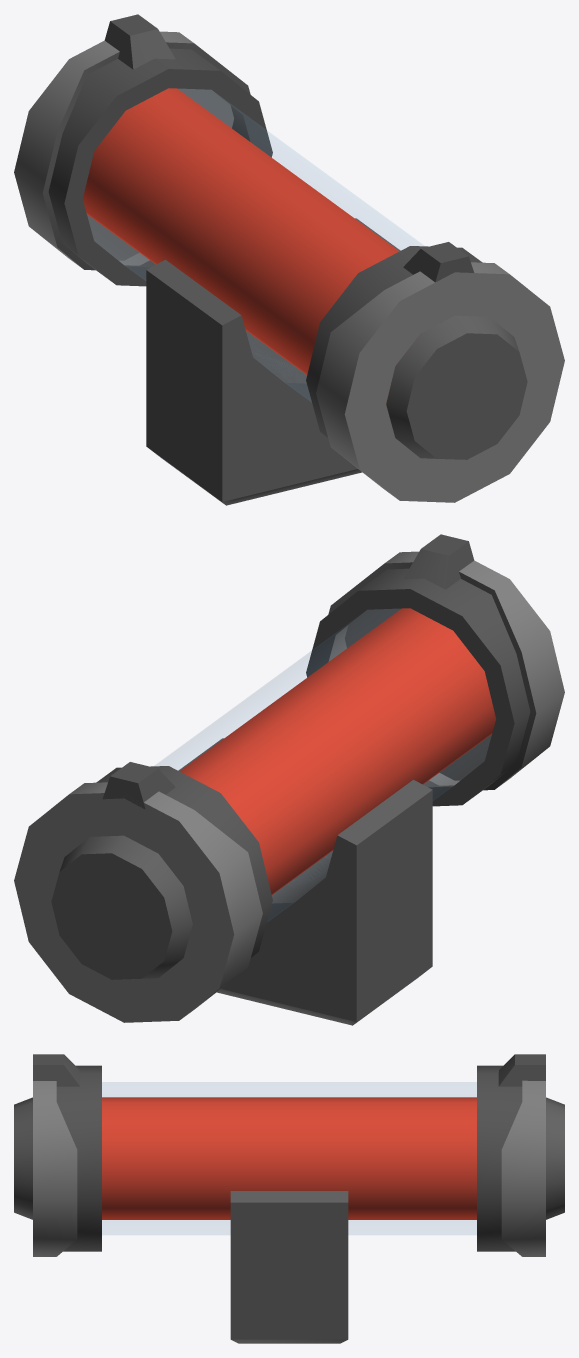
The model's file is Liquid_Red_Pipe.fbx.
The picture shows the model from 3 angles, top to bottom: view 1: azimuth 30°, elevation 25°; view 2: azimuth 150°, elevation 25°; view 3: azimuth 270°, elevation 25°; orthographic projection. The views are drawn at different scales.
Visible parts, largest first — view 1: Liquid_Red_Pipe; view 2: Liquid_Red_Pipe; view 3: Liquid_Red_Pipe.
Boxes of the visible parts, <box> form: Liquid_Red_Pipe: <box>14,14,564,505</box>; Liquid_Red_Pipe: <box>14,534,564,1025</box>; Liquid_Red_Pipe: <box>14,1054,564,1343</box>.
Bounding box in the file's own units: 76.91 × 107 × 215.
